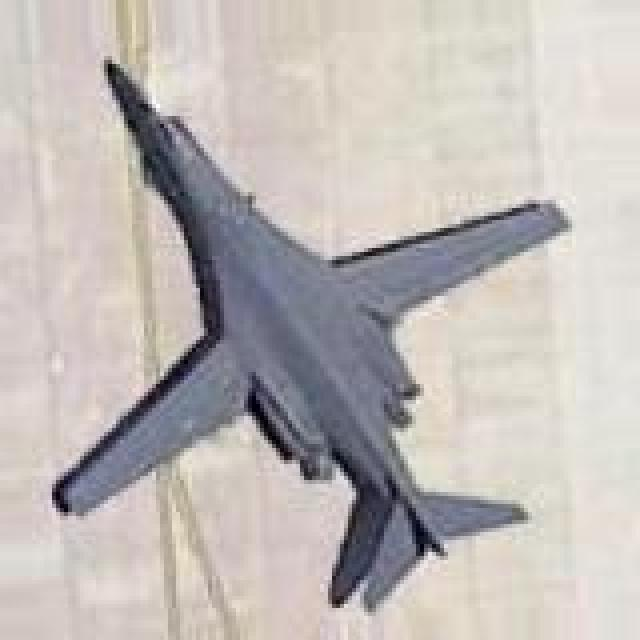B-1_TopDown: (48, 52, 572, 612)
